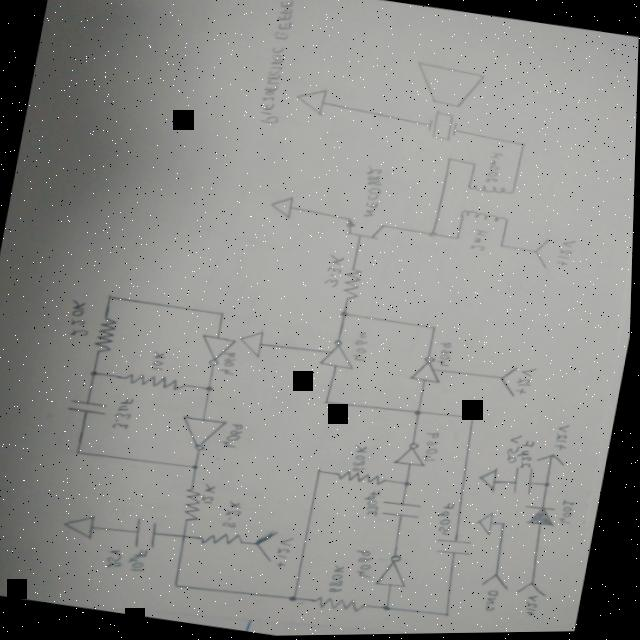capacitor: (131, 516, 166, 554), (434, 536, 479, 563), (66, 395, 112, 421), (382, 499, 426, 525), (510, 466, 540, 502)
crossover: (180, 530, 193, 542)
diode: (522, 503, 562, 532)
ground: (62, 510, 103, 543), (237, 324, 271, 363), (293, 83, 329, 119), (268, 194, 296, 222), (477, 467, 503, 496), (476, 511, 500, 538)
inductor: (458, 206, 513, 229), (466, 182, 519, 201)
junction: (203, 381, 222, 397), (411, 407, 428, 421), (467, 413, 481, 426), (89, 368, 104, 380), (191, 462, 204, 475), (217, 308, 231, 320), (543, 480, 557, 492), (338, 309, 353, 320), (290, 594, 303, 606), (428, 230, 441, 242), (172, 581, 186, 592), (403, 480, 417, 490), (384, 605, 397, 615), (430, 324, 443, 334), (74, 448, 86, 458), (316, 468, 327, 477), (445, 613, 456, 622), (106, 293, 117, 302), (518, 142, 529, 151), (323, 400, 333, 409), (502, 522, 511, 531), (499, 242, 508, 251), (445, 158, 456, 165), (470, 162, 480, 169), (454, 237, 463, 244)
resistor: (122, 369, 192, 398), (313, 593, 372, 619), (91, 315, 122, 358), (201, 528, 250, 554), (339, 264, 368, 307), (181, 484, 210, 525), (338, 469, 391, 490)
terminal: (252, 528, 283, 565), (496, 364, 523, 402), (531, 236, 556, 275), (481, 572, 516, 594), (518, 580, 553, 601), (537, 452, 570, 470)
text: (252, 0, 304, 128), (357, 166, 388, 221), (62, 295, 99, 341), (110, 395, 140, 435), (435, 501, 460, 540), (276, 536, 301, 574), (323, 253, 347, 292), (223, 498, 248, 534), (353, 549, 380, 582), (483, 152, 507, 188), (351, 330, 375, 366), (222, 423, 249, 453), (555, 238, 579, 271), (328, 564, 351, 598), (362, 489, 387, 520), (423, 430, 444, 465), (517, 368, 539, 400), (131, 548, 156, 575), (468, 228, 492, 255), (219, 352, 242, 380), (553, 425, 575, 454), (352, 445, 373, 475), (518, 441, 539, 471), (106, 547, 130, 573), (505, 435, 524, 467), (436, 342, 456, 371), (201, 482, 222, 509), (560, 501, 580, 529), (150, 350, 171, 375), (524, 596, 544, 622), (485, 589, 504, 616)
transistor: (341, 213, 388, 245)
